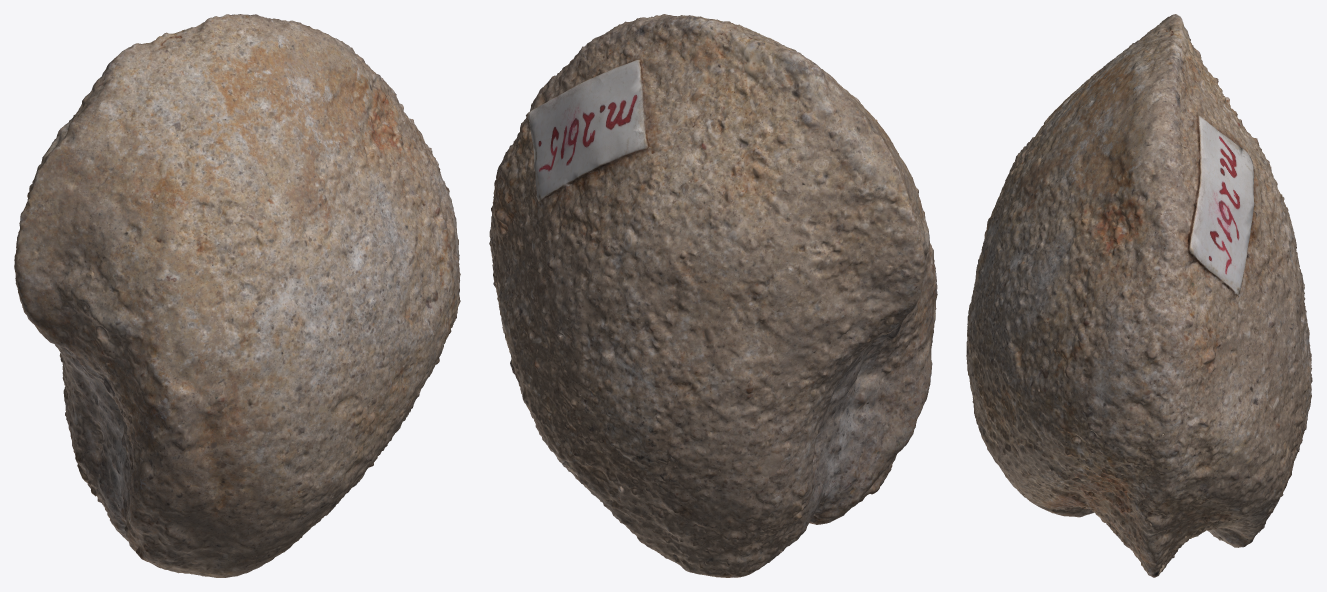
Rendered from EWS0014138.glb.
3 views of the same model, side by side, from view 1: azimuth 30°, elevation 25°; view 2: azimuth 150°, elevation 25°; view 3: azimuth 270°, elevation 25° (orthographic). The views are drawn at different scales.
Visible parts, largest first — view 1: EWS0014138; view 2: EWS0014138; view 3: EWS0014138.
Part boxes in pixels (x1,y1,x2,y2): EWS0014138: (14, 14, 460, 577); EWS0014138: (489, 14, 937, 577); EWS0014138: (966, 14, 1312, 577).
Bounding box in the file's own units: 0.041 × 0.0482 × 0.0296.
Materials: 1 (1 with a texture image).
